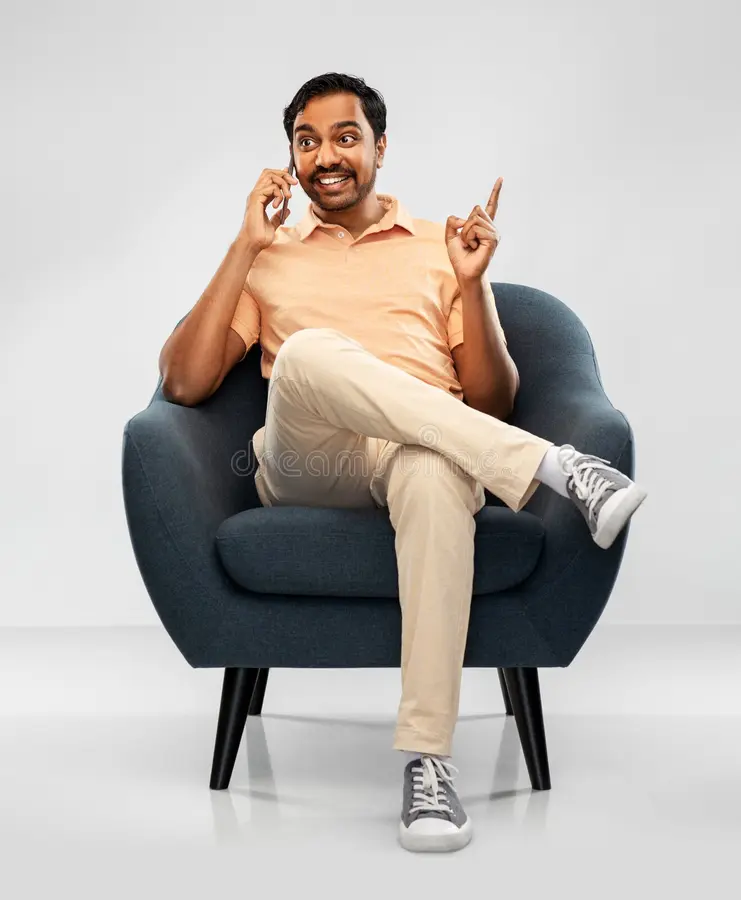distracted: (236, 68, 448, 266)
